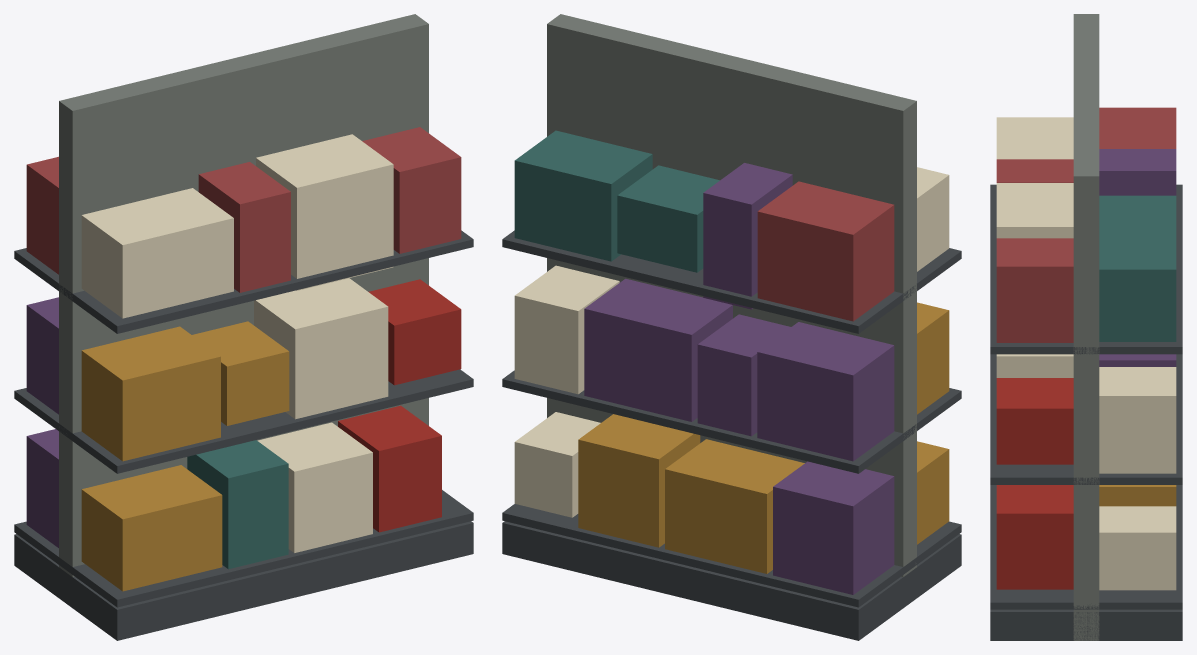
Rendered from store_shelf.glb.
3 renders of one model, left to right at view 1: azimuth 30°, elevation 25°; view 2: azimuth 150°, elevation 25°; view 3: azimuth 270°, elevation 25°, orthographic. The views are drawn at different scales.
Visible parts, largest first — view 1: StoreShelf; view 2: StoreShelf; view 3: StoreShelf.
Part boxes in pixels (x1=…): StoreShelf: x1=14, y1=14, x2=473, y2=640; StoreShelf: x1=502, y1=14, x2=961, y2=640; StoreShelf: x1=990, y1=14, x2=1182, y2=640.
Bounding box in the file's own units: 1.2 × 1.6 × 0.6.
